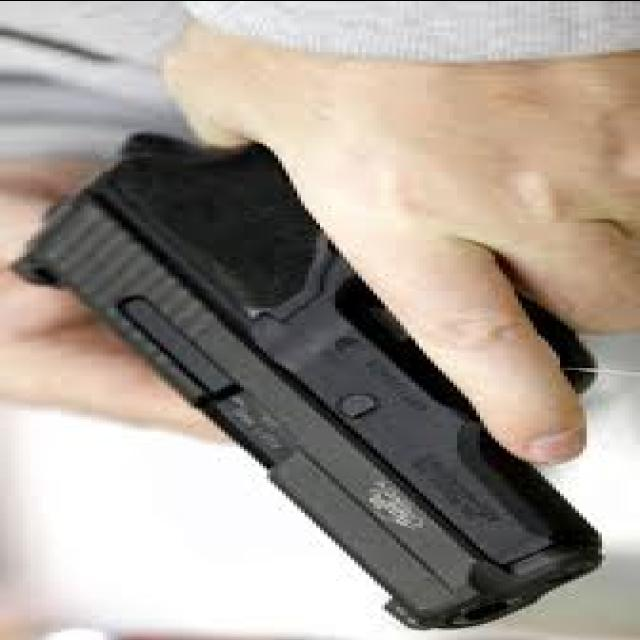weapons: (3, 121, 630, 634)
